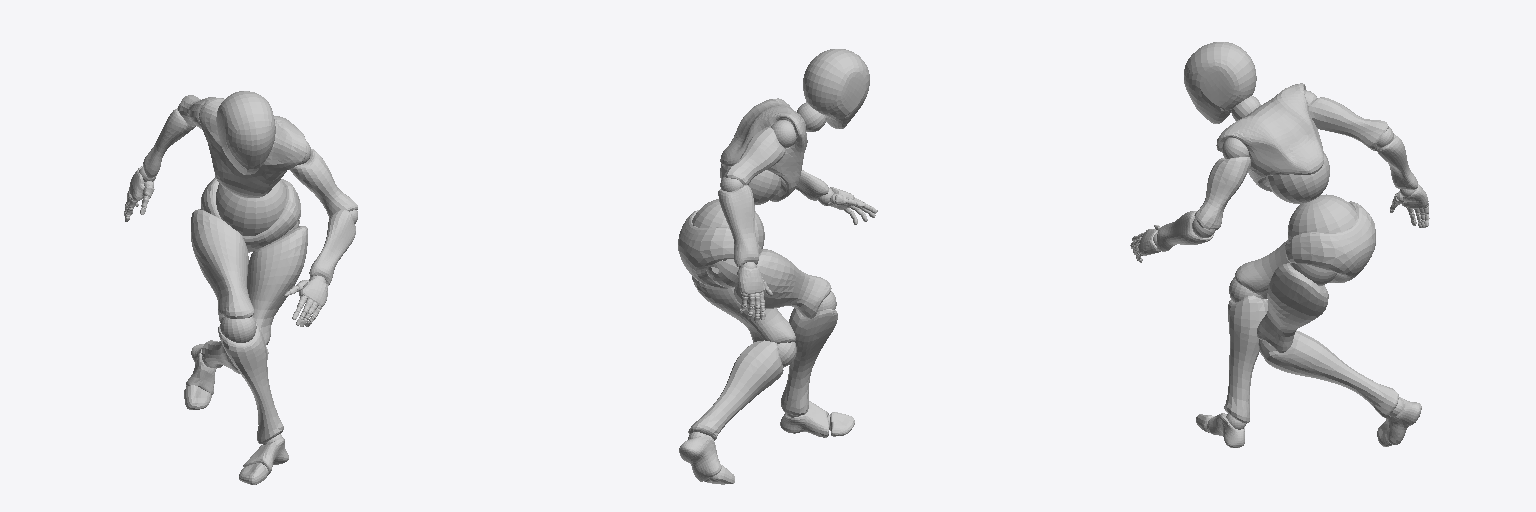
The picture shows the model from 3 angles: view 1: azimuth 30°, elevation 25°; view 2: azimuth 150°, elevation 25°; view 3: azimuth 270°, elevation 25°; orthographic projection.
Visible parts, largest first — view 1: Beta_Surface, Beta_Joints; view 2: Beta_Surface, Beta_Joints; view 3: Beta_Surface, Beta_Joints.
Part boxes in pixels (bbox=[...]): Beta_Surface: bbox=[124, 91, 357, 484]; Beta_Joints: bbox=[124, 104, 357, 475]; Beta_Surface: bbox=[678, 49, 877, 484]; Beta_Joints: bbox=[688, 102, 872, 481]; Beta_Surface: bbox=[1130, 42, 1429, 447]; Beta_Joints: bbox=[1131, 90, 1428, 432].
Bounding box in the file's own units: 0.4947 × 1.42 × 0.9986.